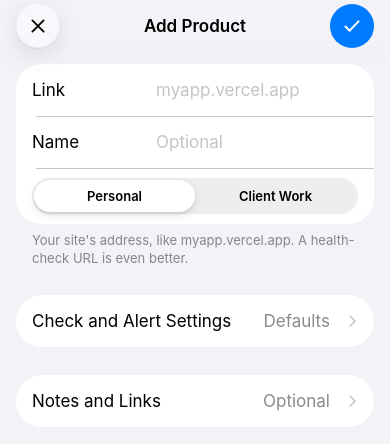
Test: ProductFormPage › puts an SSRF rejection from the API on the link field
Type "https://internal.example/" into the field named "Link to check" at {"x": 257, "y": 90}, box top-left (156, 79), bottom-right (358, 101)
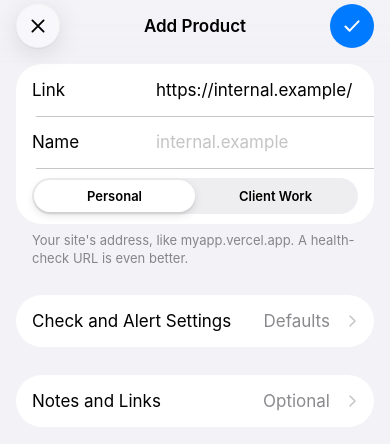
Click the button named "Add and check" at {"x": 352, "y": 26}, box top-left (330, 4), bottom-right (374, 48)
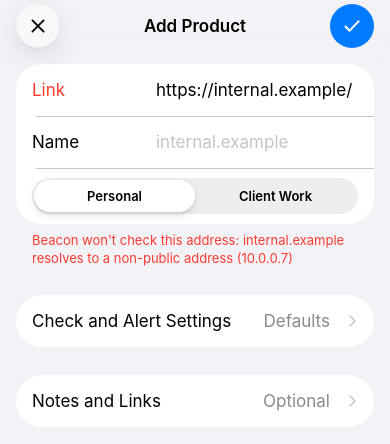
Check: the text "Beacon won't check this address" is shown, box top-left (32, 232), bottom-right (344, 266)
